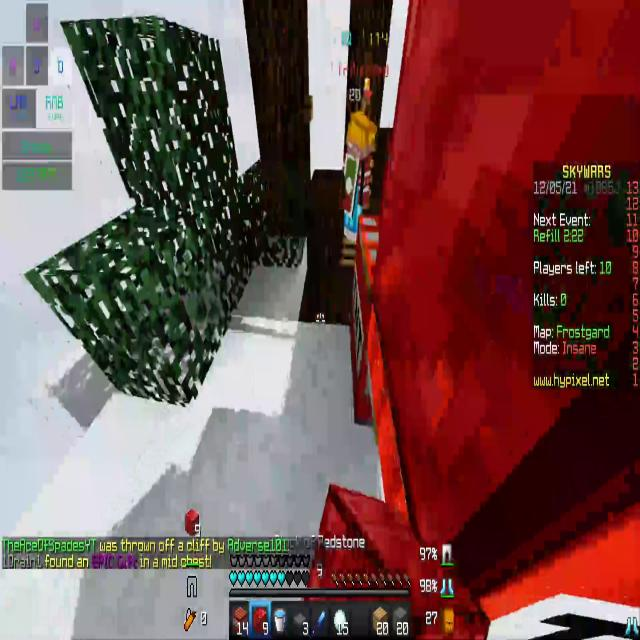Player: (331, 90, 377, 267)
